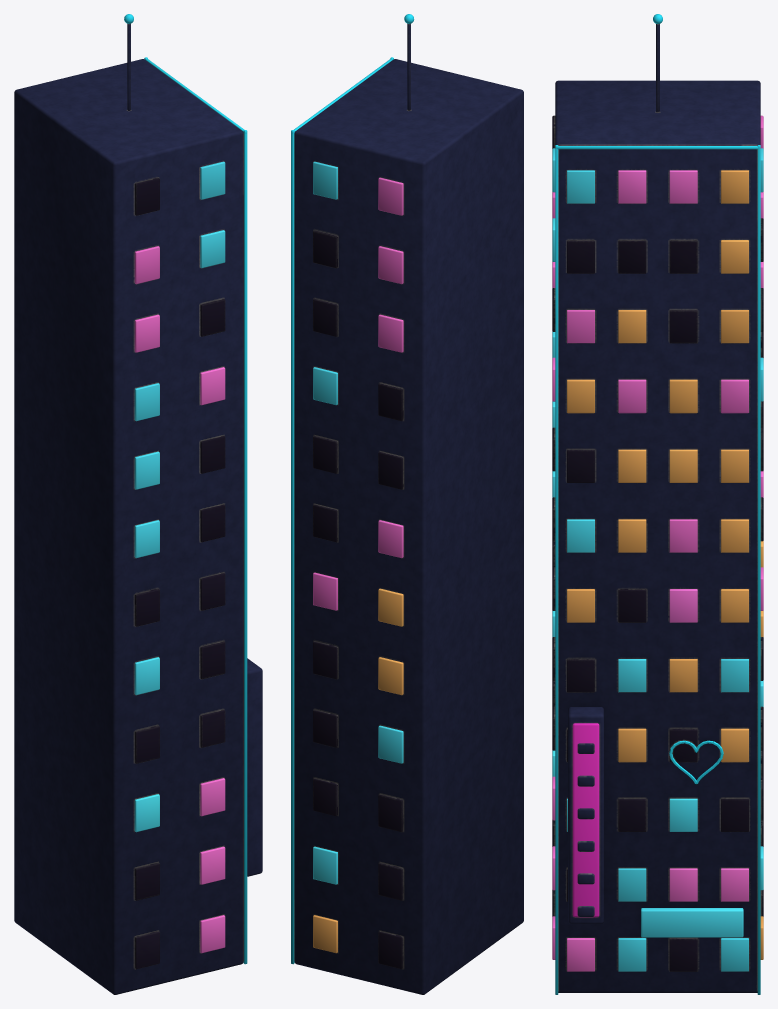
Rendered from rn_building_b.fbx.
The picture shows the model from 3 angles, left to right: view 1: azimuth 30°, elevation 25°; view 2: azimuth 150°, elevation 25°; view 3: azimuth 270°, elevation 25°; orthographic projection.
Visible parts, largest first — view 1: rn_building_b; view 2: rn_building_b; view 3: rn_building_b.
Boxes of the visible parts, bbox=[...] form: rn_building_b: bbox=[14, 14, 262, 994]; rn_building_b: bbox=[291, 14, 523, 994]; rn_building_b: bbox=[552, 14, 763, 994].
Size of the model in its own units: 7.25 by 40.7 by 8.22.
7 materials, 7 textured.
